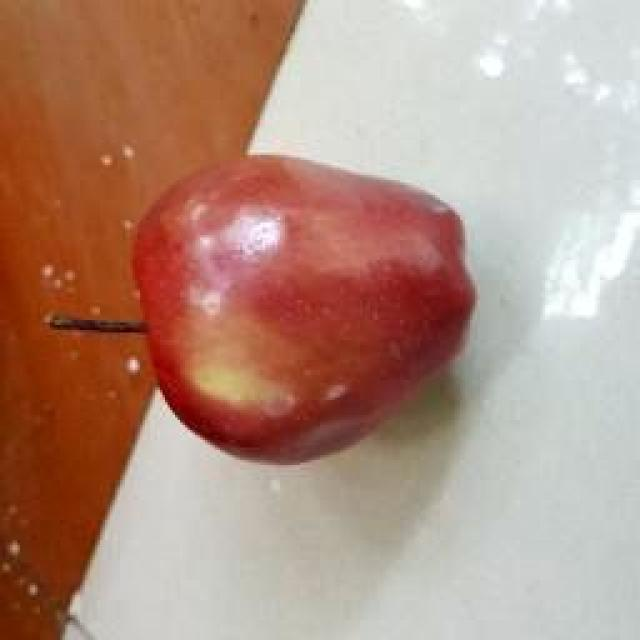Good_Apple: (130, 155, 478, 468)
